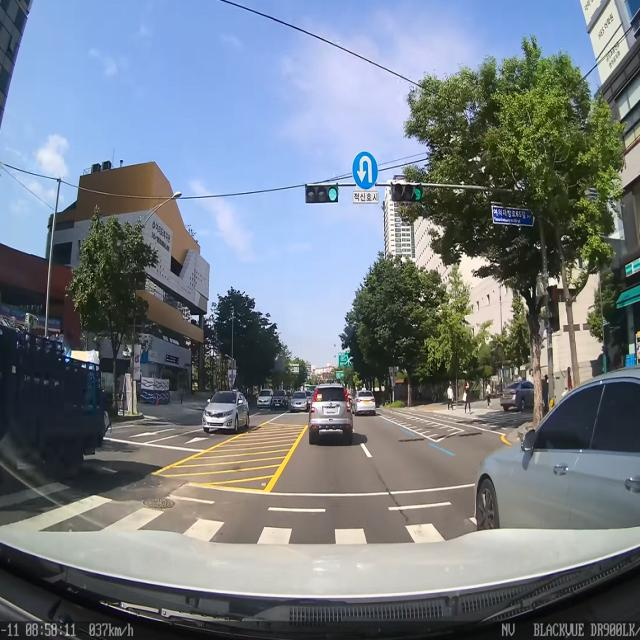Green Light: (327, 185, 338, 202), (413, 183, 422, 200)
